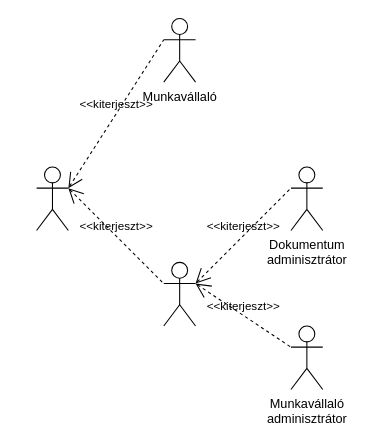
The diagram is 365 pixels wide and 446 high, and some of its shapes have lost their labels. The shapes that lost their labels are listed below. From the top down, each one's centre as x and y in pixels, then its label:
the point at 52,198: Felhasználó
the point at 179,293: Adminisztrátor
